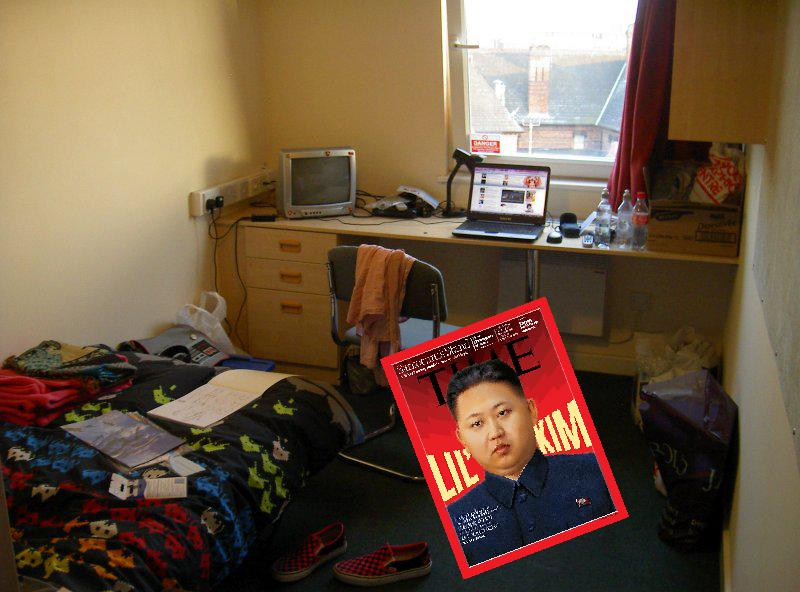times: (377, 296, 629, 585)
